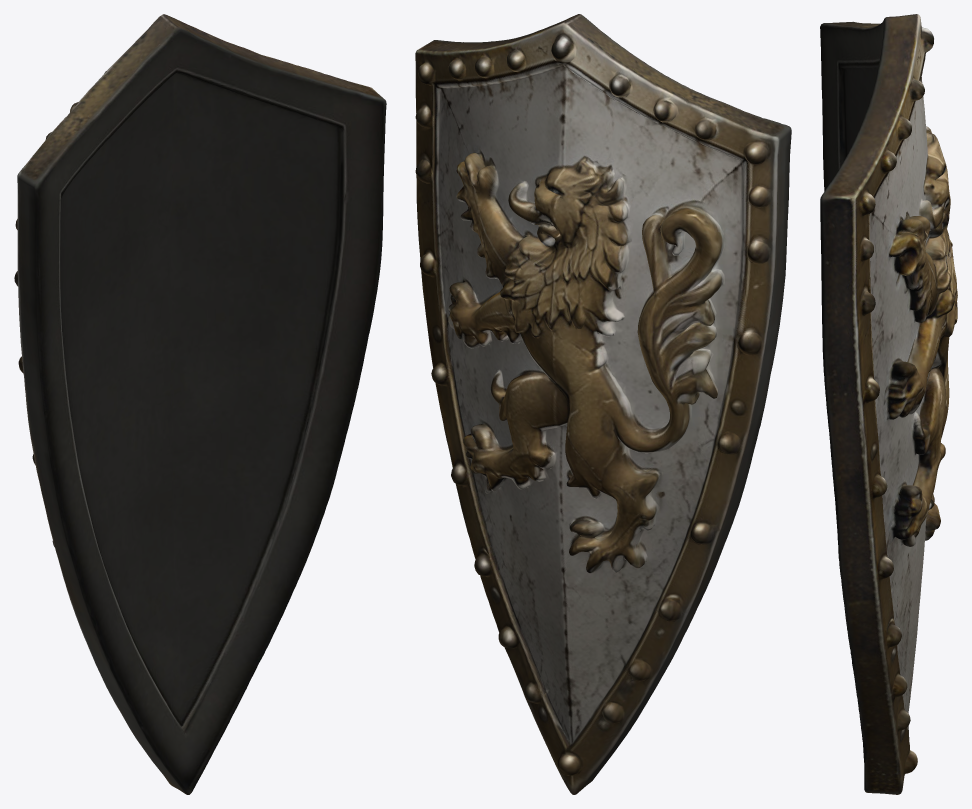
File: kite_gold_lion.glb
The picture shows the model from 3 angles, left to right: view 1: azimuth 30°, elevation 25°; view 2: azimuth 150°, elevation 25°; view 3: azimuth 270°, elevation 25°; orthographic projection. The views are drawn at different scales.
Parts seen in each view (by area): view 1: kite_gold_lion; view 2: kite_gold_lion; view 3: kite_gold_lion.
Part boxes in pixels (<box>): kite_gold_lion: <box>14,14,386,794</box>; kite_gold_lion: <box>415,14,791,794</box>; kite_gold_lion: <box>820,14,957,794</box>.
Size of the model in its own units: 0.4012 by 0.8226 by 0.1316.
1 material, 1 textured.
